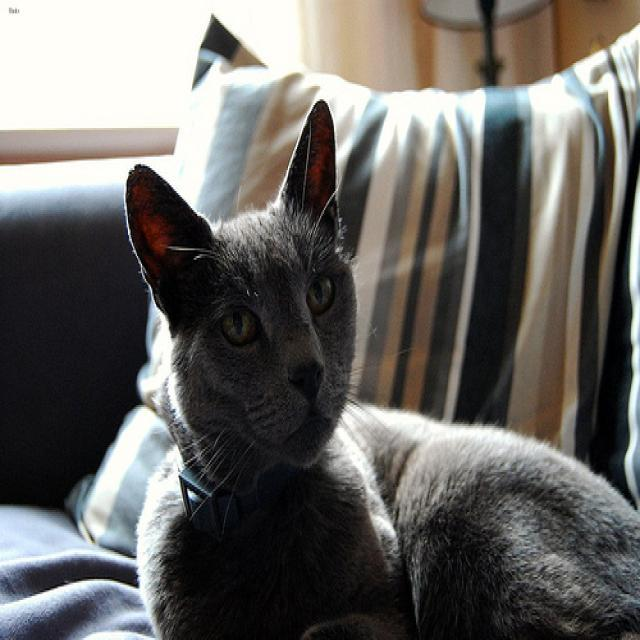Russian_Blue: (123, 97, 359, 474)
